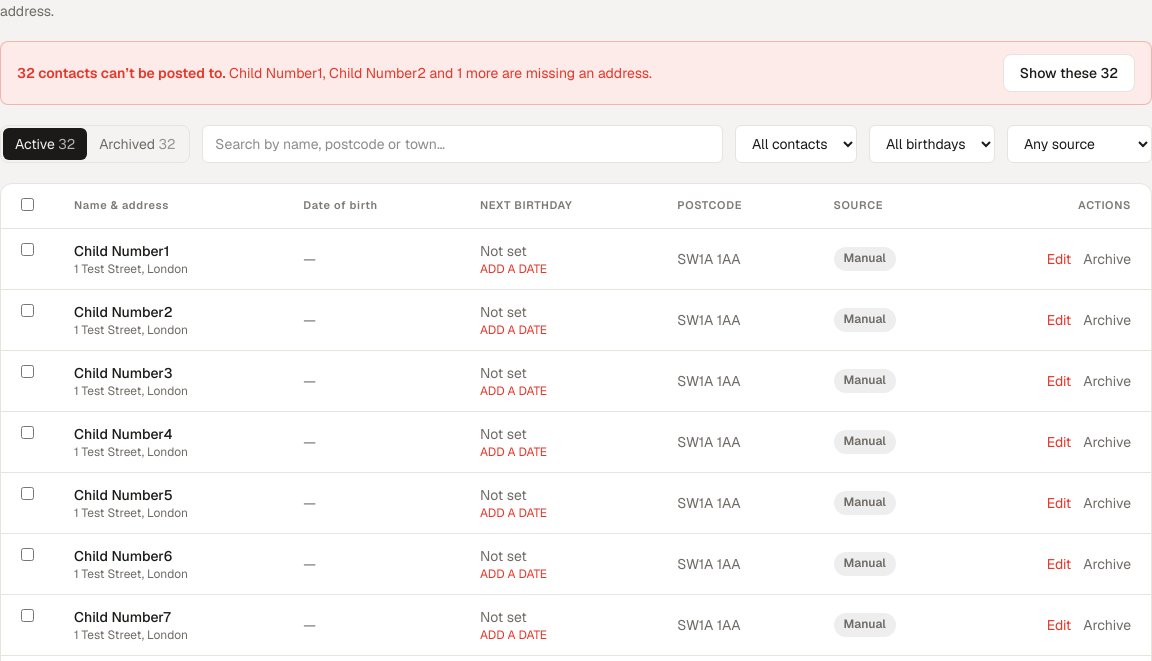
Test case: RecipientsClient — bulk actions across pages › carries every ticked id to the send flow
Click the checkbox named "Select all on this page". click: (28, 204)
box: [21,198,34,211]
(page scrolled)
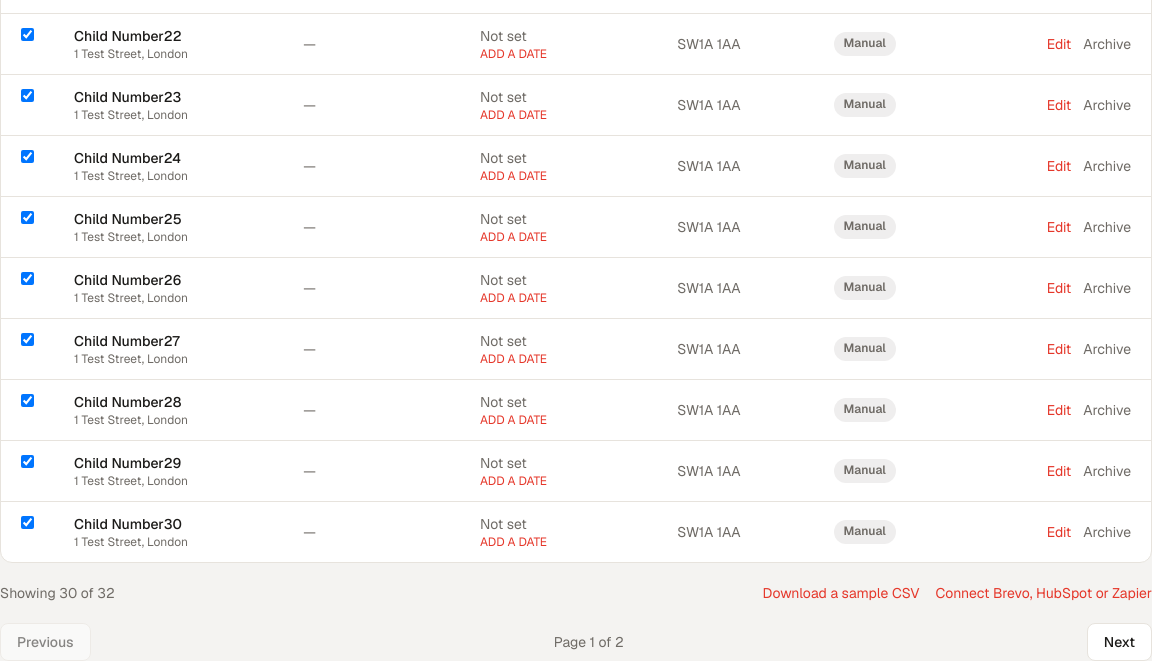
Click the button "Next". click: (1119, 642)
box: [1087,623,1151,660]
(page scrolled)
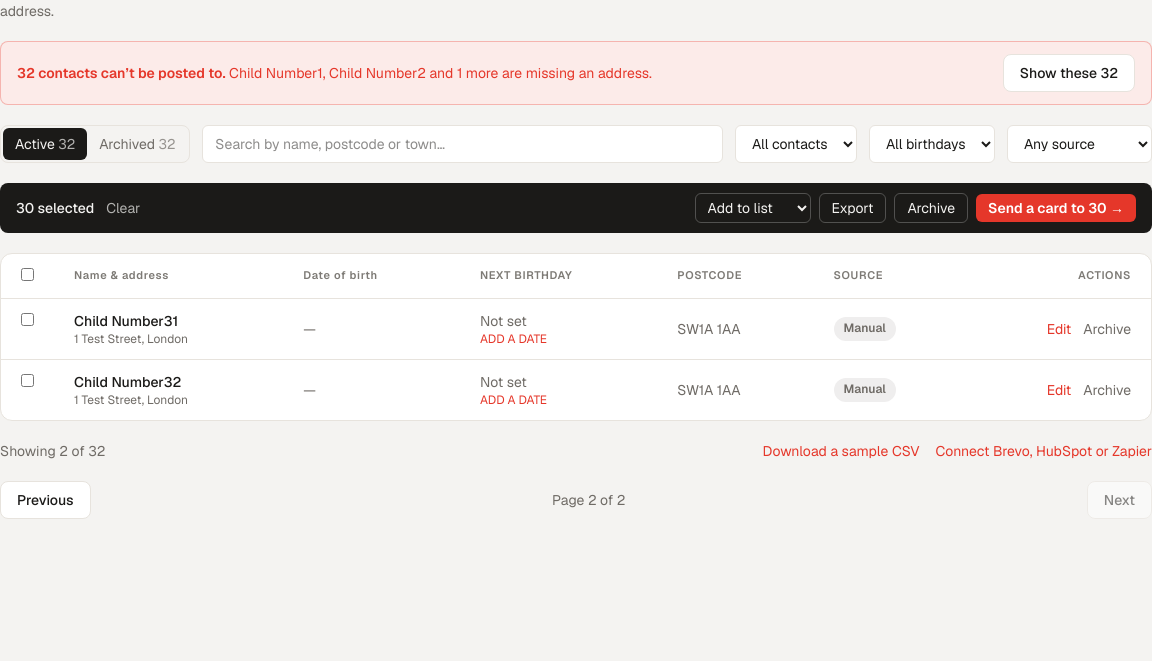
Click the checkbox named "Select all on this page". click: (28, 274)
box: [21,268,34,281]
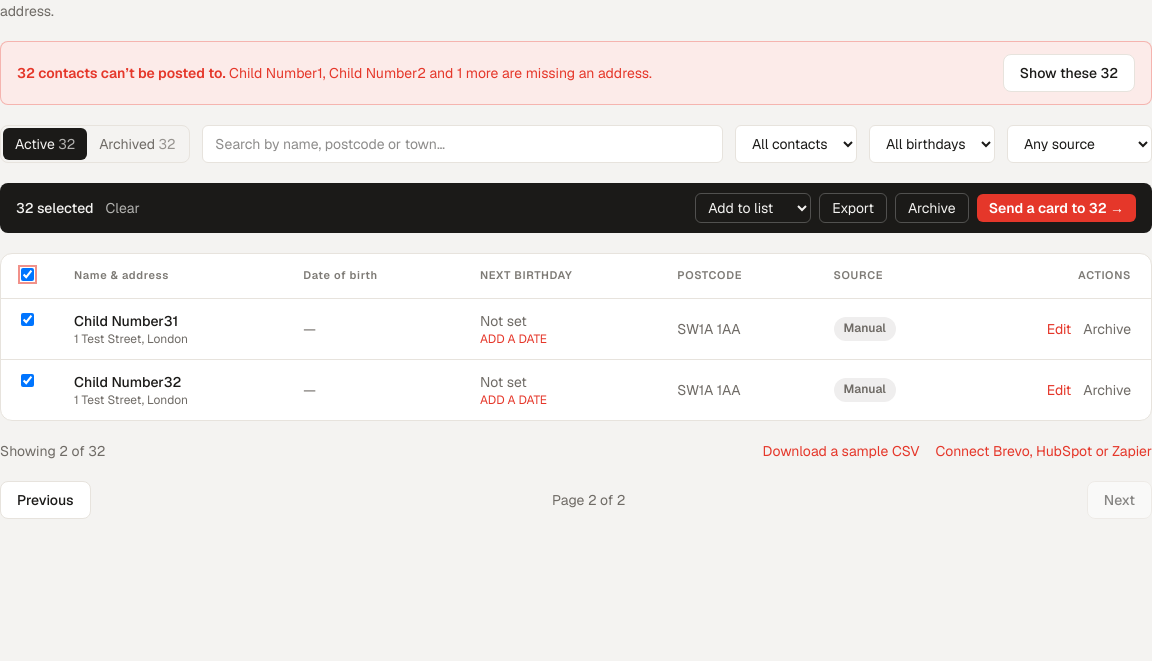
Check: the text "32 selected" is shown, box [16,198,94,218]
